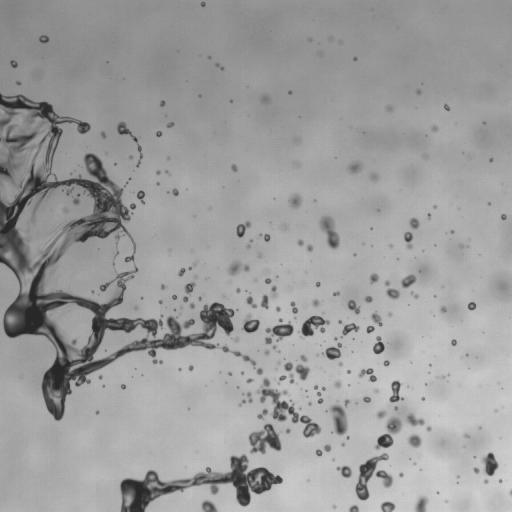droplet: (248, 422, 282, 454), (297, 316, 330, 339), (480, 452, 498, 476), (240, 313, 260, 333), (226, 260, 249, 276), (366, 310, 382, 333), (389, 380, 404, 403), (358, 368, 377, 383), (236, 220, 251, 237), (405, 413, 424, 426), (288, 193, 302, 209), (400, 274, 416, 288), (414, 495, 428, 511), (372, 336, 384, 354), (346, 161, 362, 174), (336, 465, 352, 478), (407, 433, 421, 447), (347, 299, 360, 314), (201, 499, 217, 511), (380, 501, 395, 511), (4, 89, 15, 100), (31, 92, 42, 103), (104, 166, 115, 177), (357, 168, 368, 179), (3, 194, 14, 205), (120, 194, 131, 205), (390, 278, 401, 289), (374, 281, 385, 292), (312, 287, 323, 298), (337, 294, 348, 305), (360, 303, 371, 314), (250, 308, 261, 319), (344, 311, 355, 322), (230, 315, 241, 326), (357, 317, 368, 328), (192, 322, 203, 333), (325, 322, 336, 333), (254, 327, 265, 338), (19, 332, 30, 343), (47, 345, 58, 356), (266, 370, 277, 381), (251, 378, 262, 389), (323, 396, 334, 407), (263, 398, 274, 409), (251, 400, 262, 411), (368, 400, 379, 411), (384, 408, 395, 419), (396, 410, 407, 421), (343, 414, 354, 425), (324, 419, 335, 430), (252, 420, 263, 431), (272, 420, 283, 431), (401, 423, 412, 434), (412, 424, 423, 435), (240, 442, 251, 453), (221, 462, 232, 473), (159, 472, 170, 483), (367, 475, 378, 486), (224, 482, 235, 493), (185, 484, 196, 495), (158, 492, 169, 503), (409, 217, 419, 229), (369, 273, 379, 284), (376, 409, 386, 419), (260, 94, 270, 103), (38, 35, 49, 43), (370, 173, 379, 182), (279, 223, 288, 232), (312, 298, 321, 307), (333, 379, 342, 388), (346, 155, 355, 164), (0, 176, 9, 185), (114, 178, 123, 187), (282, 190, 291, 199), (299, 199, 308, 208), (417, 214, 426, 223), (332, 224, 341, 233), (319, 232, 328, 241), (222, 259, 231, 268), (236, 269, 245, 278), (182, 273, 191, 282), (262, 285, 271, 294), (398, 286, 407, 295), (176, 288, 185, 297), (162, 289, 171, 298), (187, 292, 196, 301), (162, 294, 171, 303), (5, 295, 14, 304), (252, 295, 261, 304), (355, 298, 364, 307), (433, 298, 442, 307), (311, 307, 320, 316), (104, 310, 113, 319), (292, 322, 301, 331), (214, 325, 223, 334), (373, 326, 382, 335), (179, 327, 188, 336), (228, 341, 237, 350), (184, 343, 193, 352), (155, 346, 164, 355), (173, 346, 182, 355), (378, 351, 387, 360), (44, 358, 53, 367), (98, 365, 107, 374), (247, 368, 256, 377), (339, 373, 348, 382), (254, 374, 263, 383), (280, 379, 289, 388), (268, 381, 277, 390), (325, 381, 334, 390), (251, 391, 260, 400), (343, 406, 352, 415), (264, 414, 273, 423), (277, 433, 286, 442), (406, 444, 415, 453), (374, 461, 383, 470), (477, 461, 486, 470), (245, 462, 254, 471), (269, 466, 278, 475), (351, 468, 360, 477), (477, 469, 486, 478), (185, 470, 194, 479), (135, 472, 144, 481), (500, 482, 509, 491), (208, 494, 217, 503), (351, 496, 360, 505), (348, 504, 359, 511), (177, 267, 185, 276), (467, 302, 476, 310), (143, 505, 154, 511), (238, 505, 249, 511), (405, 505, 416, 511), (423, 505, 434, 511), (305, 244, 313, 252), (364, 295, 372, 303), (10, 60, 17, 68), (293, 160, 300, 168), (230, 164, 237, 172), (171, 188, 178, 196), (62, 206, 70, 213), (262, 268, 270, 275), (300, 354, 307, 362), (363, 396, 371, 403), (323, 444, 331, 451), (315, 449, 322, 457), (0, 105, 5, 116), (0, 140, 5, 151), (0, 304, 5, 315), (386, 104, 393, 111), (431, 125, 438, 132), (155, 130, 162, 137), (211, 55, 218, 62), (66, 110, 73, 117), (70, 122, 77, 129), (160, 126, 167, 133), (424, 126, 431, 133), (427, 130, 434, 137), (122, 133, 129, 140), (96, 152, 103, 159), (101, 161, 108, 168), (352, 171, 359, 178), (62, 173, 69, 180), (155, 174, 162, 181), (90, 175, 97, 182), (133, 198, 140, 205), (283, 200, 290, 207), (406, 225, 413, 232), (409, 227, 416, 234), (337, 239, 344, 246), (240, 258, 247, 265), (400, 271, 407, 278), (414, 273, 421, 280), (377, 276, 384, 283), (408, 283, 415, 290), (240, 292, 247, 299), (175, 296, 182, 303), (266, 298, 273, 305), (169, 310, 176, 317), (127, 312, 134, 319), (176, 317, 183, 324), (342, 318, 349, 325), (367, 318, 374, 325), (257, 324, 264, 331), (359, 325, 366, 332), (207, 337, 214, 344), (214, 347, 221, 354), (123, 351, 130, 358), (225, 351, 232, 358), (301, 360, 308, 367), (181, 364, 188, 371), (232, 369, 239, 376), (306, 371, 313, 378), (293, 372, 300, 379), (36, 375, 43, 382), (68, 379, 75, 386), (386, 389, 393, 396), (397, 389, 404, 396), (36, 390, 43, 397), (277, 394, 284, 401), (265, 395, 272, 402), (337, 400, 344, 407), (39, 401, 46, 408), (62, 409, 69, 416), (46, 412, 53, 419), (413, 412, 420, 419), (285, 413, 292, 420), (380, 427, 387, 434), (344, 428, 351, 435), (312, 432, 319, 439), (390, 432, 397, 439), (338, 433, 345, 440), (263, 442, 270, 449), (378, 446, 385, 453), (234, 450, 241, 457), (493, 454, 500, 461), (391, 473, 398, 480), (376, 476, 383, 483), (203, 482, 210, 489), (216, 482, 223, 489), (270, 482, 277, 489), (114, 485, 121, 492), (172, 489, 179, 496), (261, 489, 268, 496), (248, 490, 255, 497), (411, 497, 418, 504), (213, 501, 220, 508), (444, 103, 450, 111), (264, 278, 272, 284), (440, 305, 446, 313), (506, 212, 511, 221), (195, 506, 204, 511), (100, 131, 106, 138), (293, 138, 300, 144), (297, 239, 303, 246), (189, 302, 195, 309), (451, 339, 457, 346), (264, 349, 270, 356), (383, 360, 390, 366), (473, 467, 479, 474), (166, 122, 174, 127), (332, 291, 340, 296), (246, 378, 254, 383), (161, 284, 167, 290), (275, 306, 281, 312), (373, 388, 379, 394), (0, 324, 4, 333), (501, 213, 506, 220), (188, 365, 193, 372), (463, 433, 470, 438), (160, 100, 165, 106), (422, 154, 428, 159), (315, 281, 320, 287), (426, 425, 431, 431), (114, 507, 121, 511), (200, 1, 205, 6), (16, 80, 21, 85), (416, 89, 421, 94), (156, 170, 161, 175), (432, 204, 437, 209), (388, 243, 393, 248), (235, 288, 240, 293), (172, 294, 177, 299), (133, 305, 138, 310), (387, 312, 392, 317), (346, 369, 351, 374), (321, 386, 326, 391), (285, 428, 290, 433), (398, 472, 403, 477), (483, 478, 488, 483), (332, 504, 337, 509), (48, 36, 53, 41), (13, 56, 18, 61), (418, 85, 423, 90), (25, 93, 30, 98), (38, 97, 43, 102), (46, 99, 51, 104), (155, 99, 160, 104), (447, 102, 452, 107), (51, 105, 56, 110), (80, 117, 85, 122), (166, 117, 171, 122), (433, 120, 438, 125), (56, 123, 61, 128), (125, 124, 130, 129), (168, 126, 173, 131), (113, 129, 118, 134), (83, 131, 88, 136), (96, 133, 101, 138), (58, 136, 63, 141), (137, 139, 142, 144), (134, 151, 139, 156), (80, 152, 85, 157), (80, 161, 85, 166), (235, 163, 240, 168), (159, 167, 164, 172), (228, 168, 233, 173), (160, 171, 165, 176), (72, 173, 77, 178), (57, 176, 62, 181), (177, 188, 182, 193), (177, 191, 182, 196), (168, 192, 173, 197), (127, 207, 132, 212), (240, 219, 245, 224), (249, 219, 254, 224), (417, 224, 422, 229), (244, 227, 249, 232), (232, 232, 237, 237), (299, 235, 304, 240), (259, 236, 264, 241), (409, 239, 414, 244), (402, 240, 407, 245), (250, 241, 255, 246), (293, 242, 298, 247), (302, 242, 307, 247), (311, 247, 316, 252), (406, 248, 411, 253), (305, 250, 310, 255), (133, 253, 138, 258), (248, 264, 253, 269), (175, 266, 180, 271), (184, 268, 189, 273), (8, 269, 13, 274), (268, 274, 273, 279), (260, 275, 265, 280), (365, 276, 370, 281), (386, 276, 391, 281), (124, 281, 129, 286), (372, 281, 377, 286), (267, 282, 272, 287), (192, 285, 197, 290), (383, 285, 388, 290), (239, 287, 244, 292), (367, 291, 372, 296), (244, 292, 249, 297), (121, 294, 126, 299), (310, 294, 315, 299), (384, 294, 389, 299), (289, 296, 294, 301), (316, 296, 321, 301), (216, 298, 221, 303), (307, 299, 312, 304), (184, 301, 189, 306), (206, 301, 211, 306), (367, 301, 372, 306), (223, 303, 228, 308), (246, 303, 251, 308), (256, 304, 261, 309), (343, 304, 348, 309), (198, 305, 203, 310), (287, 305, 292, 310), (435, 305, 440, 310), (445, 305, 450, 310), (349, 309, 354, 314), (376, 310, 381, 315), (251, 314, 256, 319), (321, 314, 326, 319), (143, 315, 148, 320), (154, 316, 159, 321), (380, 318, 385, 323), (282, 319, 287, 324), (162, 320, 167, 325), (275, 320, 280, 325), (321, 323, 326, 328), (339, 324, 344, 329), (241, 329, 246, 334), (349, 329, 354, 334), (229, 330, 234, 335), (248, 331, 253, 336), (265, 332, 270, 337), (273, 334, 278, 339), (305, 334, 310, 339), (282, 335, 287, 340), (336, 337, 341, 342), (260, 338, 265, 343), (372, 338, 377, 343), (380, 338, 385, 343), (219, 341, 224, 346), (455, 341, 460, 346), (332, 342, 337, 347), (266, 343, 271, 348), (368, 344, 373, 349), (199, 345, 204, 350), (321, 346, 326, 351), (211, 347, 216, 352), (206, 348, 211, 353), (240, 349, 245, 354), (369, 350, 374, 355), (380, 350, 385, 355), (304, 352, 309, 357), (248, 353, 253, 358), (117, 355, 122, 360), (148, 355, 153, 360), (237, 355, 242, 360), (323, 355, 328, 360), (333, 357, 338, 362), (281, 359, 286, 364), (245, 360, 250, 365), (271, 361, 276, 366), (291, 362, 296, 367), (254, 363, 259, 368), (290, 367, 295, 372), (355, 368, 360, 373), (283, 370, 288, 375), (371, 370, 376, 375), (84, 373, 89, 378), (364, 373, 369, 378), (243, 374, 248, 379), (331, 376, 336, 381), (391, 376, 396, 381), (284, 377, 289, 382), (99, 378, 104, 383), (316, 386, 321, 391), (37, 388, 42, 393), (311, 389, 316, 394), (364, 391, 369, 396), (64, 394, 69, 399), (243, 395, 248, 400), (314, 395, 319, 400), (236, 397, 241, 402), (304, 397, 309, 402), (385, 399, 390, 404), (63, 400, 68, 405), (393, 400, 398, 405), (376, 406, 381, 411), (257, 408, 262, 413), (297, 411, 302, 416), (310, 418, 315, 423), (54, 419, 59, 424), (300, 422, 305, 427), (317, 422, 322, 427), (430, 426, 435, 431), (246, 429, 251, 434), (427, 430, 432, 435), (298, 432, 303, 437), (307, 435, 312, 440), (463, 437, 468, 442), (324, 439, 329, 444), (344, 439, 349, 444), (372, 439, 377, 444), (329, 443, 334, 448), (329, 447, 334, 452), (321, 449, 326, 454), (255, 450, 260, 455), (482, 451, 487, 456), (360, 459, 365, 464), (338, 462, 343, 467), (414, 464, 419, 469), (148, 465, 153, 470), (210, 467, 215, 472), (201, 468, 206, 473), (493, 468, 498, 473), (336, 469, 341, 474), (385, 469, 390, 474), (469, 469, 474, 474), (272, 471, 277, 476), (485, 474, 490, 479), (342, 476, 347, 481), (192, 484, 197, 489), (183, 487, 188, 492), (504, 488, 509, 493), (215, 491, 220, 496), (365, 497, 370, 502), (382, 497, 387, 502), (387, 497, 392, 502), (117, 498, 122, 503), (427, 213, 431, 219), (198, 295, 202, 301), (0, 261, 3, 268), (353, 56, 357, 61), (489, 157, 493, 162), (193, 274, 197, 279), (252, 278, 257, 282), (91, 289, 95, 294), (158, 299, 162, 304), (338, 362, 343, 366), (227, 371, 232, 375), (98, 374, 102, 379), (121, 384, 125, 389), (314, 384, 318, 389), (393, 406, 398, 410), (288, 90, 292, 94), (229, 99, 233, 103), (129, 155, 133, 159), (166, 156, 170, 160), (156, 181, 160, 185), (450, 230, 454, 234), (459, 244, 463, 248), (179, 305, 183, 309), (293, 316, 297, 320), (240, 371, 244, 375), (421, 396, 425, 400), (95, 410, 99, 414), (341, 442, 345, 446), (258, 253, 261, 258), (275, 275, 278, 280), (334, 336, 337, 341), (308, 401, 311, 406), (499, 478, 502, 483), (330, 508, 335, 511), (344, 508, 349, 511), (357, 508, 362, 511), (377, 508, 382, 511), (391, 508, 396, 511), (308, 38, 312, 41), (207, 56, 211, 59), (482, 121, 486, 124), (114, 162, 117, 166), (487, 202, 491, 205), (168, 248, 171, 252), (178, 367, 181, 371), (298, 406, 301, 410), (494, 409, 498, 412), (478, 426, 482, 429), (346, 435, 349, 439), (413, 461, 416, 465), (456, 475, 460, 478), (444, 499, 447, 503), (198, 94, 201, 97), (69, 172, 72, 175), (313, 199, 316, 202), (208, 207, 211, 210), (353, 253, 356, 256), (396, 257, 399, 260), (433, 294, 436, 297), (140, 296, 143, 299), (173, 308, 176, 311), (465, 353, 468, 356), (428, 363, 431, 366), (424, 382, 427, 385), (102, 384, 105, 387), (187, 407, 190, 410), (462, 445, 465, 448), (332, 458, 335, 461), (436, 491, 439, 494), (198, 4, 201, 7), (203, 5, 206, 8), (42, 32, 45, 35), (45, 33, 48, 36), (36, 35, 39, 38), (38, 41, 41, 44), (45, 41, 48, 44), (207, 52, 210, 55), (350, 56, 353, 59), (356, 56, 359, 59), (9, 57, 12, 60), (353, 60, 356, 63), (16, 62, 19, 65), (219, 63, 222, 66), (9, 65, 12, 68), (216, 66, 219, 69), (223, 66, 226, 69), (19, 79, 22, 82), (284, 90, 287, 93), (291, 90, 294, 93), (287, 93, 290, 96), (226, 98, 229, 101), (232, 99, 235, 102), (164, 100, 167, 103), (227, 101, 230, 104), (444, 109, 447, 112), (483, 118, 486, 121), (481, 123, 484, 126), (60, 132, 63, 135), (104, 132, 107, 135), (131, 132, 134, 135), (153, 133, 156, 136), (159, 135, 162, 138), (136, 137, 139, 140), (132, 140, 135, 143), (134, 146, 137, 149), (55, 147, 58, 150), (140, 149, 143, 152), (52, 155, 55, 158), (136, 155, 139, 158), (486, 157, 489, 160), (139, 158, 142, 161), (492, 158, 495, 161), (113, 159, 116, 162), (51, 160, 54, 163), (134, 161, 137, 164), (489, 161, 492, 164), (138, 163, 141, 166), (115, 164, 118, 167), (134, 166, 137, 169), (154, 167, 157, 170), (167, 168, 170, 171), (50, 169, 53, 172), (152, 171, 155, 174), (130, 175, 133, 178), (127, 179, 130, 182), (159, 181, 162, 184), (125, 183, 128, 186), (153, 183, 156, 186), (156, 184, 159, 187), (141, 188, 144, 191), (169, 189, 172, 192), (134, 191, 137, 194), (163, 191, 166, 194), (487, 198, 490, 201), (490, 201, 493, 204), (431, 202, 434, 205), (484, 202, 487, 205), (435, 207, 438, 210), (127, 211, 130, 214), (429, 211, 432, 214), (424, 213, 427, 216), (429, 215, 432, 218), (498, 217, 501, 220), (502, 219, 505, 222), (366, 226, 369, 229), (372, 226, 375, 229), (451, 227, 454, 230), (233, 228, 236, 231), (368, 229, 371, 232), (266, 231, 269, 234), (447, 231, 450, 234), (452, 232, 455, 235), (130, 233, 133, 236), (269, 234, 272, 237), (269, 237, 272, 240), (133, 239, 136, 242), (135, 246, 138, 249), (351, 250, 354, 253), (350, 254, 353, 257), (354, 255, 357, 258), (188, 263, 191, 266), (135, 264, 138, 267), (184, 266, 187, 269), (191, 266, 194, 269), (132, 272, 135, 275), (278, 274, 281, 277), (265, 275, 268, 278), (315, 278, 318, 281), (262, 281, 265, 284), (163, 282, 166, 285), (312, 282, 315, 285), (319, 282, 322, 285), (16, 283, 19, 286), (158, 284, 161, 287), (313, 285, 316, 288), (244, 286, 247, 289), (233, 287, 236, 290), (247, 288, 250, 291), (275, 288, 278, 291), (123, 289, 126, 292), (172, 291, 175, 294), (339, 291, 342, 294), (432, 291, 435, 294), (329, 292, 332, 295), (169, 293, 172, 296), (200, 294, 203, 297), (335, 294, 338, 297), (410, 295, 413, 298), (137, 296, 140, 299), (417, 296, 420, 299), (169, 297, 172, 300), (433, 297, 436, 300), (141, 298, 144, 301), (466, 300, 469, 303), (287, 301, 290, 304), (156, 302, 159, 305), (159, 303, 162, 306), (404, 303, 407, 306), (294, 304, 297, 307), (464, 304, 467, 307), (475, 304, 478, 307), (175, 306, 178, 309), (262, 306, 265, 309), (358, 307, 361, 310), (232, 308, 235, 311), (469, 309, 472, 312), (233, 311, 236, 314), (443, 311, 446, 314), (293, 312, 296, 315), (338, 316, 341, 319), (354, 322, 357, 325), (369, 331, 372, 334), (455, 338, 458, 341), (448, 339, 451, 342), (448, 342, 451, 345), (275, 347, 278, 350), (338, 347, 341, 350), (353, 350, 356, 353), (300, 351, 303, 354), (467, 351, 470, 354), (463, 355, 466, 358), (388, 362, 391, 365), (431, 363, 434, 366), (133, 364, 136, 367), (178, 364, 181, 367), (384, 365, 387, 368), (426, 365, 429, 368), (347, 366, 350, 369), (192, 367, 195, 370), (364, 367, 367, 370), (239, 368, 242, 371), (175, 369, 178, 372), (343, 370, 346, 373), (231, 371, 234, 374), (237, 371, 240, 374), (443, 372, 446, 375), (225, 373, 228, 376), (347, 373, 350, 376), (140, 375, 143, 378), (228, 375, 231, 378), (101, 376, 104, 379), (445, 376, 448, 379), (347, 380, 350, 383), (368, 380, 371, 383), (373, 380, 376, 383), (83, 381, 86, 384), (123, 381, 126, 384), (426, 381, 429, 384), (291, 382, 294, 385), (421, 382, 424, 385), (117, 384, 120, 387), (323, 384, 326, 387), (498, 384, 501, 387), (125, 385, 128, 388), (348, 385, 351, 388), (103, 386, 106, 389), (233, 386, 236, 389), (310, 386, 313, 389), (122, 388, 125, 391), (301, 389, 304, 392), (243, 390, 246, 393), (305, 391, 308, 394), (344, 396, 347, 399), (418, 396, 421, 399), (424, 396, 427, 399), (370, 398, 373, 401), (419, 399, 422, 402), (363, 401, 366, 404), (241, 402, 244, 405), (319, 402, 322, 405), (346, 403, 349, 406), (92, 411, 95, 414), (96, 413, 99, 416), (466, 431, 469, 434), (348, 436, 351, 439), (339, 445, 342, 448), (312, 449, 315, 452), (472, 452, 475, 455), (314, 454, 317, 457), (318, 455, 321, 458), (405, 456, 408, 459), (470, 456, 473, 459), (410, 459, 413, 462), (333, 465, 336, 468), (399, 469, 402, 472), (419, 470, 422, 473), (402, 473, 405, 476), (279, 474, 282, 477), (399, 476, 402, 479), (456, 478, 459, 481), (501, 478, 504, 481), (458, 481, 461, 484), (498, 482, 501, 485), (438, 489, 441, 492), (433, 491, 436, 494), (334, 502, 337, 505), (105, 152, 108, 154), (166, 191, 169, 193), (376, 209, 379, 211), (131, 212, 133, 215), (370, 227, 372, 230), (466, 245, 469, 247), (422, 249, 424, 252), (97, 293, 100, 295), (321, 312, 324, 314), (351, 350, 353, 353), (410, 361, 412, 364), (347, 384, 350, 386), (407, 385, 409, 388), (236, 386, 239, 388), (305, 389, 307, 392), (473, 456, 476, 458), (419, 468, 422, 470), (456, 481, 458, 484), (425, 134, 427, 136), (222, 186, 224, 188), (186, 188, 188, 190), (273, 197, 275, 199), (434, 244, 436, 246), (352, 337, 354, 339), (323, 340, 325, 342), (104, 349, 106, 351), (219, 371, 221, 373), (428, 371, 430, 373), (225, 381, 227, 383), (497, 382, 499, 384), (501, 387, 503, 389), (306, 395, 308, 397), (355, 402, 357, 404), (409, 458, 411, 460), (307, 479, 309, 481), (202, 0, 205, 1), (106, 61, 108, 62), (362, 243, 364, 244), (419, 270, 420, 272), (482, 332, 484, 333), (320, 344, 321, 346), (283, 358, 285, 359), (135, 368, 136, 370), (141, 374, 143, 375), (281, 264, 282, 265)
ligament: (255, 377, 321, 437), (116, 121, 143, 167), (374, 416, 402, 450), (318, 215, 340, 249), (316, 342, 341, 359), (181, 281, 196, 303), (384, 280, 400, 299), (404, 232, 413, 249), (137, 190, 145, 204), (188, 260, 199, 270), (290, 301, 298, 313), (435, 373, 450, 379), (316, 391, 323, 403), (246, 238, 253, 249), (410, 291, 419, 299), (273, 360, 280, 370), (215, 63, 223, 70), (222, 293, 228, 299), (164, 170, 171, 175), (508, 488, 511, 496), (97, 248, 100, 250), (343, 345, 345, 347)
